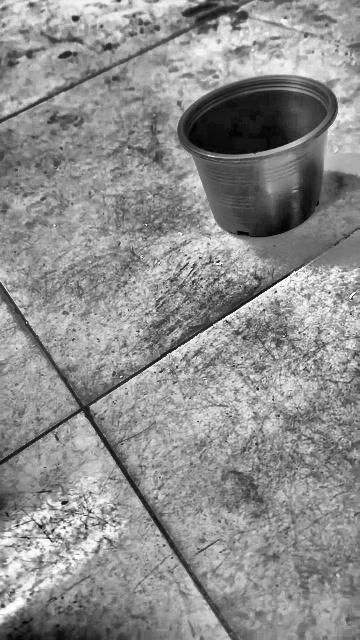pot: (177, 75, 339, 237)
